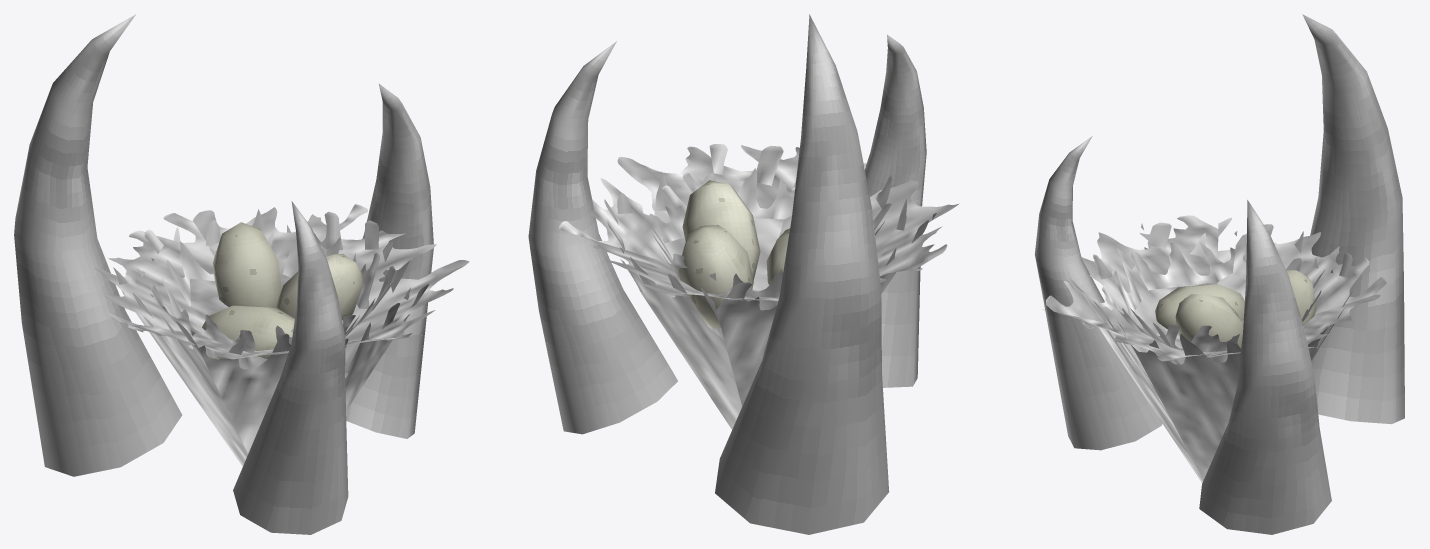
Rendered from raptornest.obj.
The picture shows the model from 3 angles, left to right: view 1: azimuth 30°, elevation 25°; view 2: azimuth 150°, elevation 25°; view 3: azimuth 270°, elevation 25°; orthographic projection. The views are drawn at different scales.
Parts seen in each view (by area): view 1: Cylinder02, Duplicate06, Plane01, Duplicate05, Duplicate01, Duplicate02, Duplicate03, Sphere02, Duplicate04; view 2: Cylinder02, Duplicate05, Plane01, Duplicate01, Duplicate06, Duplicate03, Duplicate02, Duplicate04, Sphere02; view 3: Cylinder02, Duplicate05, Duplicate06, Plane01, Duplicate01, Duplicate02, Duplicate04, Sphere02, Duplicate03.
Boxes of the visible parts, bbox=[...] form: Cylinder02: bbox=[14, 14, 182, 476]; Duplicate06: bbox=[233, 201, 348, 534]; Plane01: bbox=[95, 204, 469, 359]; Duplicate05: bbox=[346, 83, 433, 438]; Duplicate01: bbox=[113, 209, 428, 466]; Duplicate02: bbox=[150, 231, 395, 369]; Duplicate03: bbox=[212, 222, 281, 307]; Sphere02: bbox=[202, 305, 294, 359]; Duplicate04: bbox=[275, 254, 363, 319]; Cylinder02: bbox=[715, 14, 889, 534]; Duplicate05: bbox=[528, 41, 677, 434]; Plane01: bbox=[558, 145, 959, 301]; Duplicate01: bbox=[604, 144, 936, 429]; Duplicate06: bbox=[865, 34, 926, 387]; Duplicate03: bbox=[678, 225, 753, 328]; Duplicate02: bbox=[644, 168, 891, 337]; Duplicate04: bbox=[682, 180, 760, 279]; Sphere02: bbox=[766, 228, 789, 285]; Cylinder02: bbox=[1302, 14, 1404, 424]; Duplicate05: bbox=[1199, 200, 1331, 534]; Duplicate06: bbox=[1034, 136, 1162, 450]; Plane01: bbox=[1042, 215, 1386, 361]; Duplicate01: bbox=[1066, 222, 1357, 482]; Duplicate02: bbox=[1102, 231, 1325, 364]; Duplicate04: bbox=[1175, 294, 1243, 347]; Sphere02: bbox=[1155, 284, 1244, 329]; Duplicate03: bbox=[1286, 270, 1316, 324].
Bounding box in the file's own units: 29.22 × 35.84 × 28.69.
